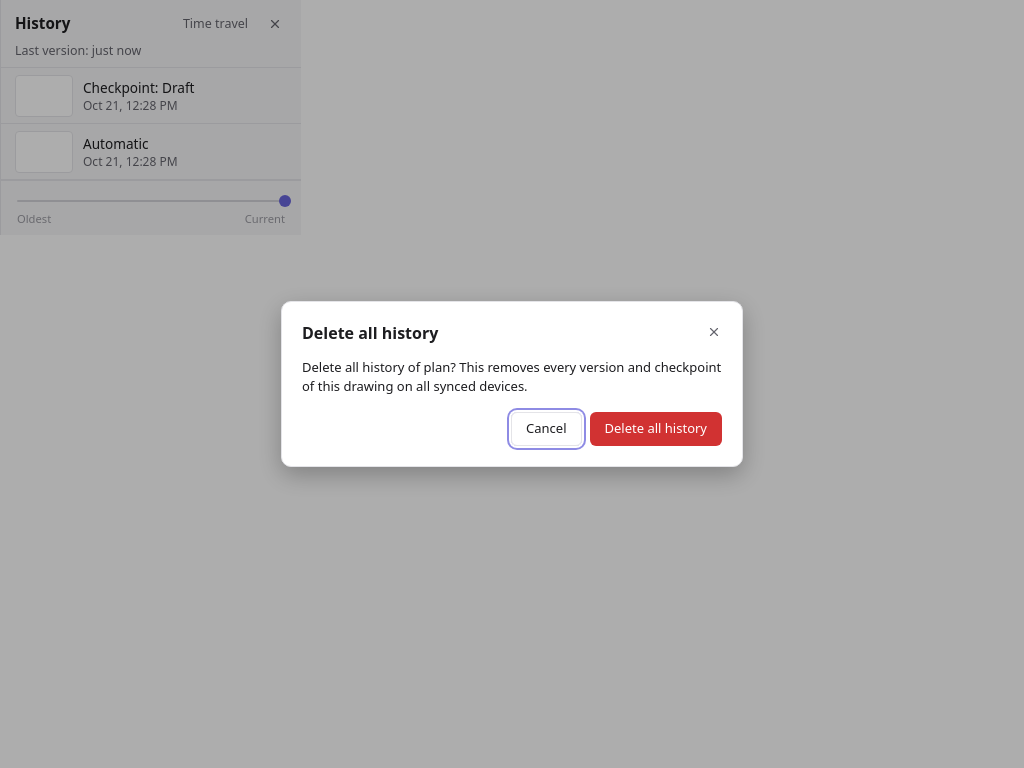
Test: history.deleteAll (app level) › an open panel refreshes to an empty list
Click the button "Delete all history": (656, 429) top-left (590, 412), bottom-right (722, 446)
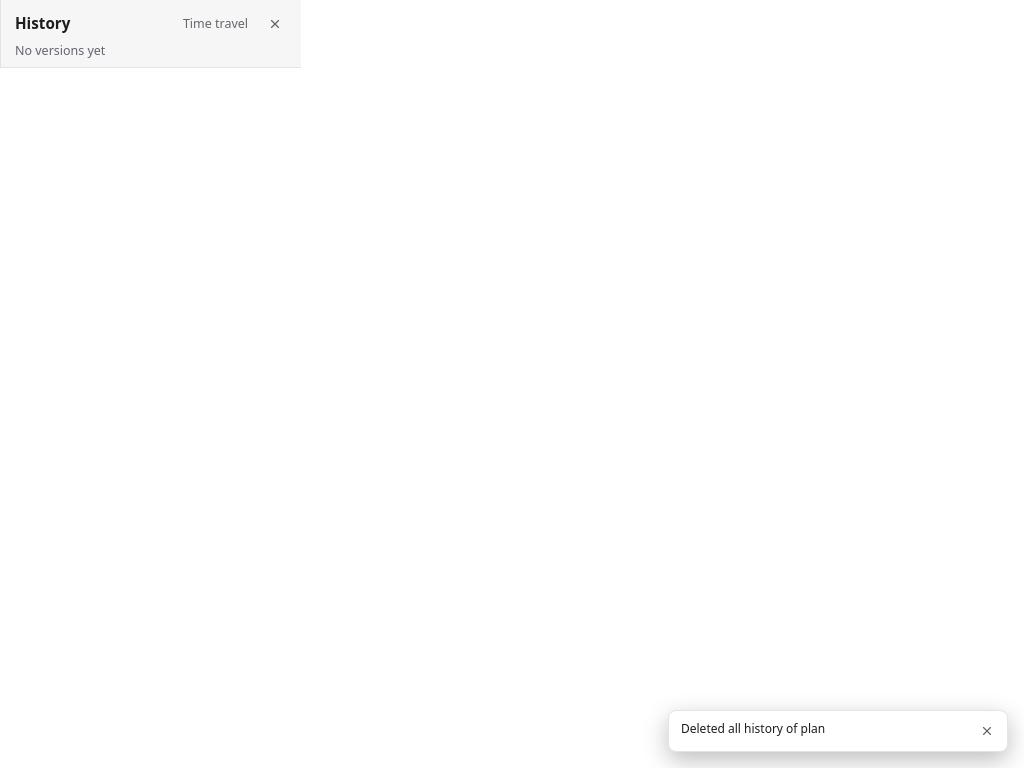
expect no list items are shown: met
expect the text "No versions yet" is shown: met, box top-left (1, 42), bottom-right (301, 68)
